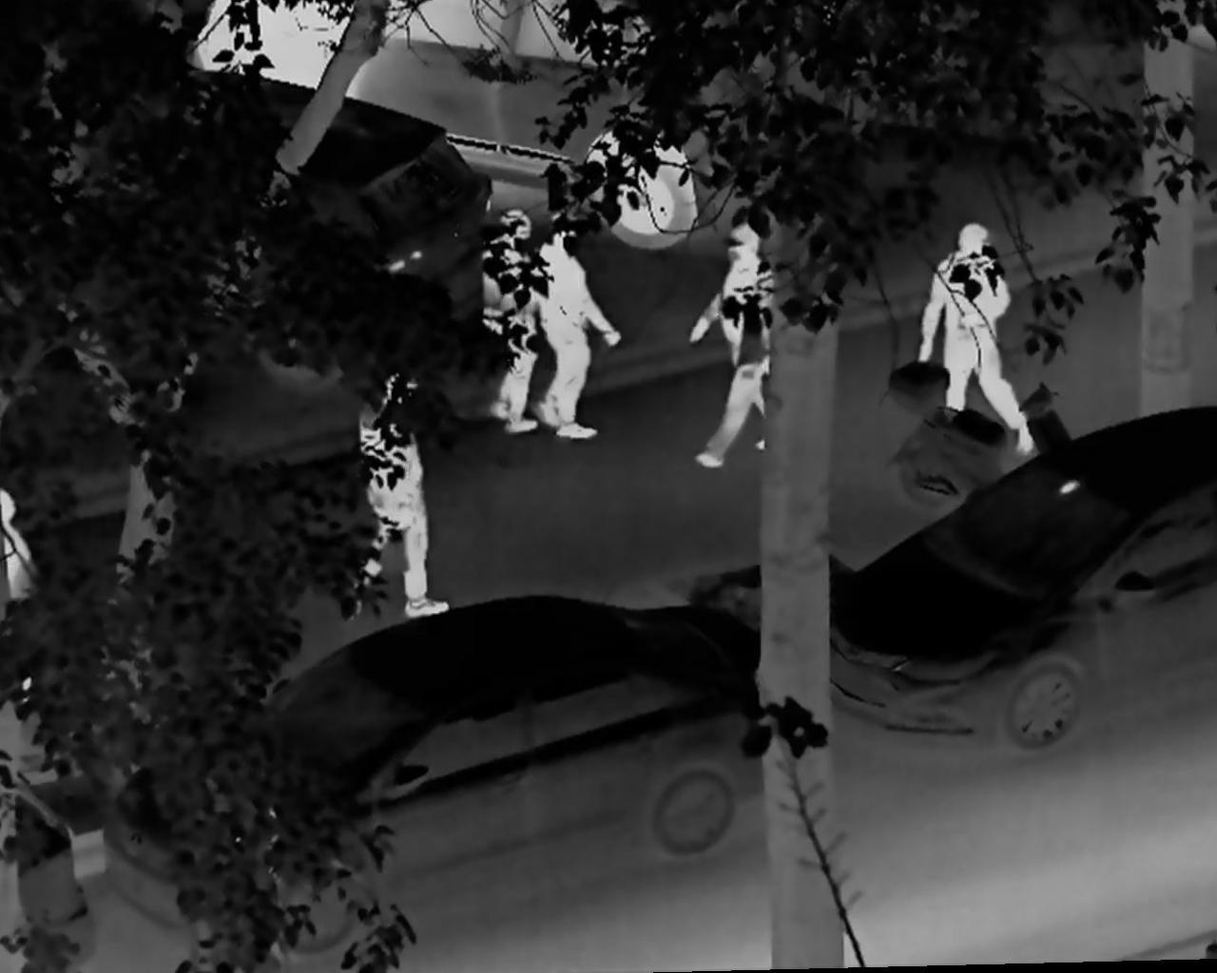person: (911, 220, 1037, 458), (344, 363, 450, 621), (527, 213, 624, 443), (687, 218, 774, 467), (483, 209, 541, 437)
